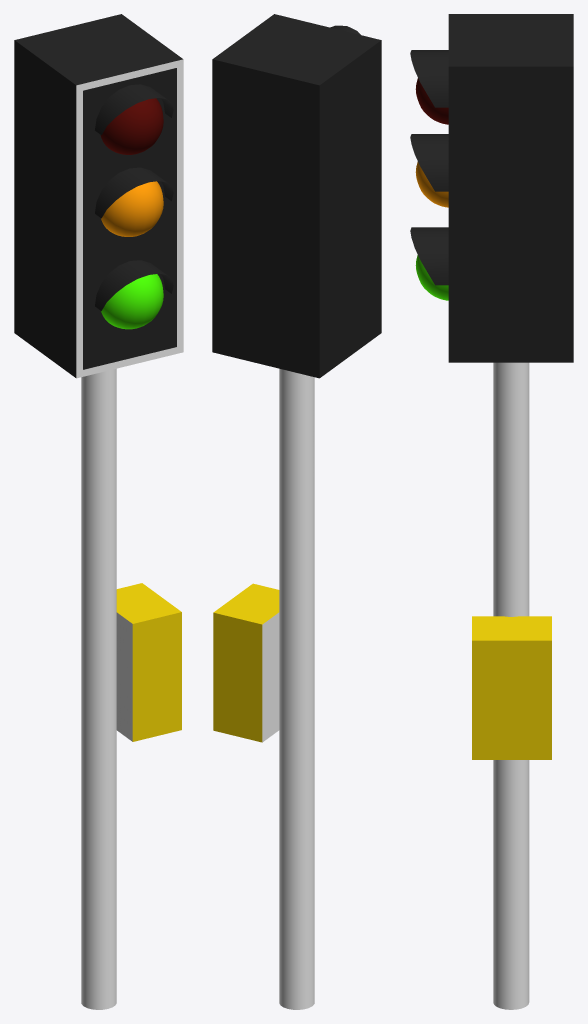
Rendered from Traffic_Lights_Extra.obj.
3 renders of one model, left to right at view 1: azimuth 30°, elevation 25°; view 2: azimuth 150°, elevation 25°; view 3: azimuth 270°, elevation 25°, orthographic.
Visible parts, largest first — view 1: pCylinder37; view 2: pCylinder37; view 3: pCylinder37.
Boxes of the visible parts, x1,y1,x2,y2 form: pCylinder37: (14, 14, 183, 1009); pCylinder37: (212, 14, 381, 1009); pCylinder37: (410, 14, 573, 1009).
Size of the model in its own units: 0.7083 by 5.51 by 0.8485.
